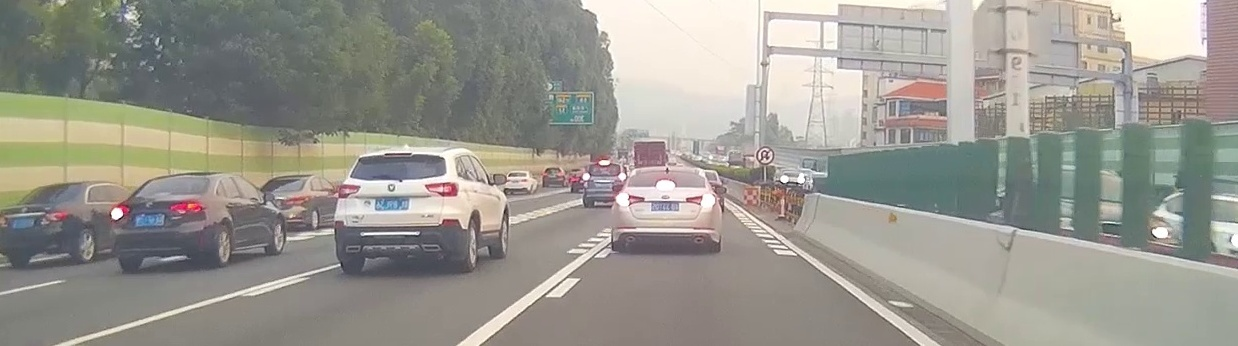L_light: (616, 193, 645, 206), (337, 184, 361, 199), (111, 206, 131, 221)
R_light: (424, 181, 460, 197), (171, 199, 206, 214), (686, 193, 715, 207)
T_light: (384, 152, 413, 157), (655, 180, 675, 187), (154, 191, 171, 196)
day-brake: (611, 166, 721, 253)
day-left: (110, 172, 211, 273)
day-no: (333, 147, 467, 274)
